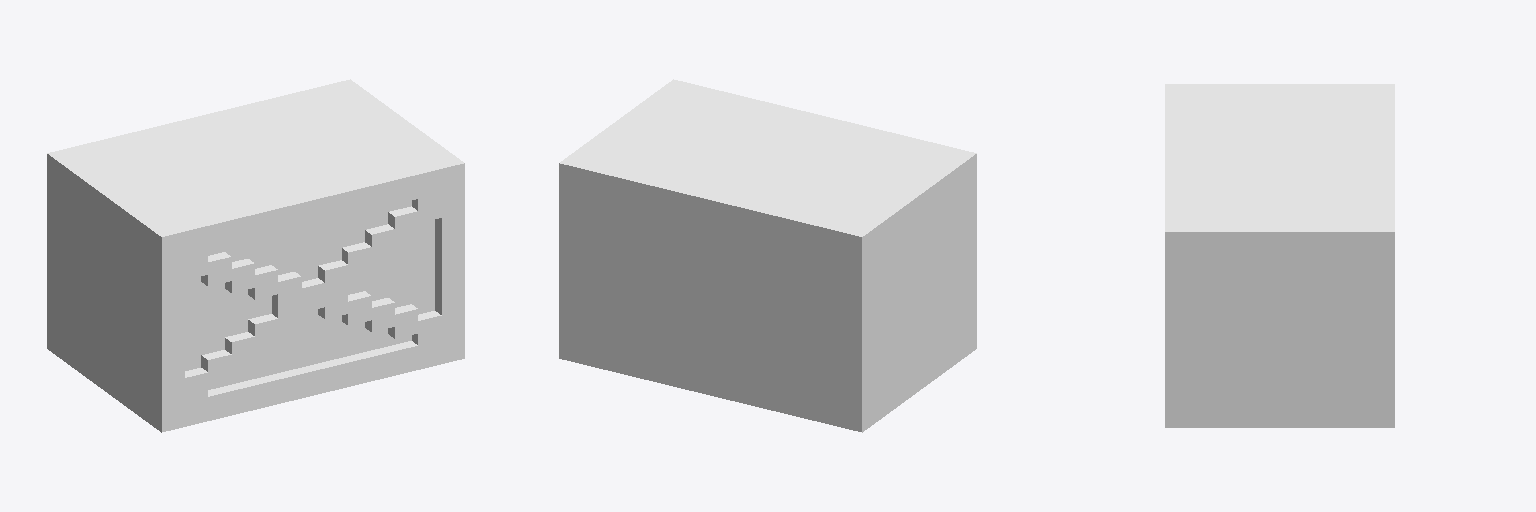
The model's file is woodbox.obj.
3 renders of one model, left to right at view 1: azimuth 30°, elevation 25°; view 2: azimuth 150°, elevation 25°; view 3: azimuth 270°, elevation 25°, orthographic.
Parts seen in each view (by area): view 1: object 1; view 2: object 1; view 3: object 1.
Part boxes in pixels (x1,y1,x2,y2): object 1: (47, 79, 464, 432); object 1: (559, 79, 976, 432); object 1: (1165, 84, 1394, 427).
Size of the model in its own units: 2.6 by 1.6 by 1.7.